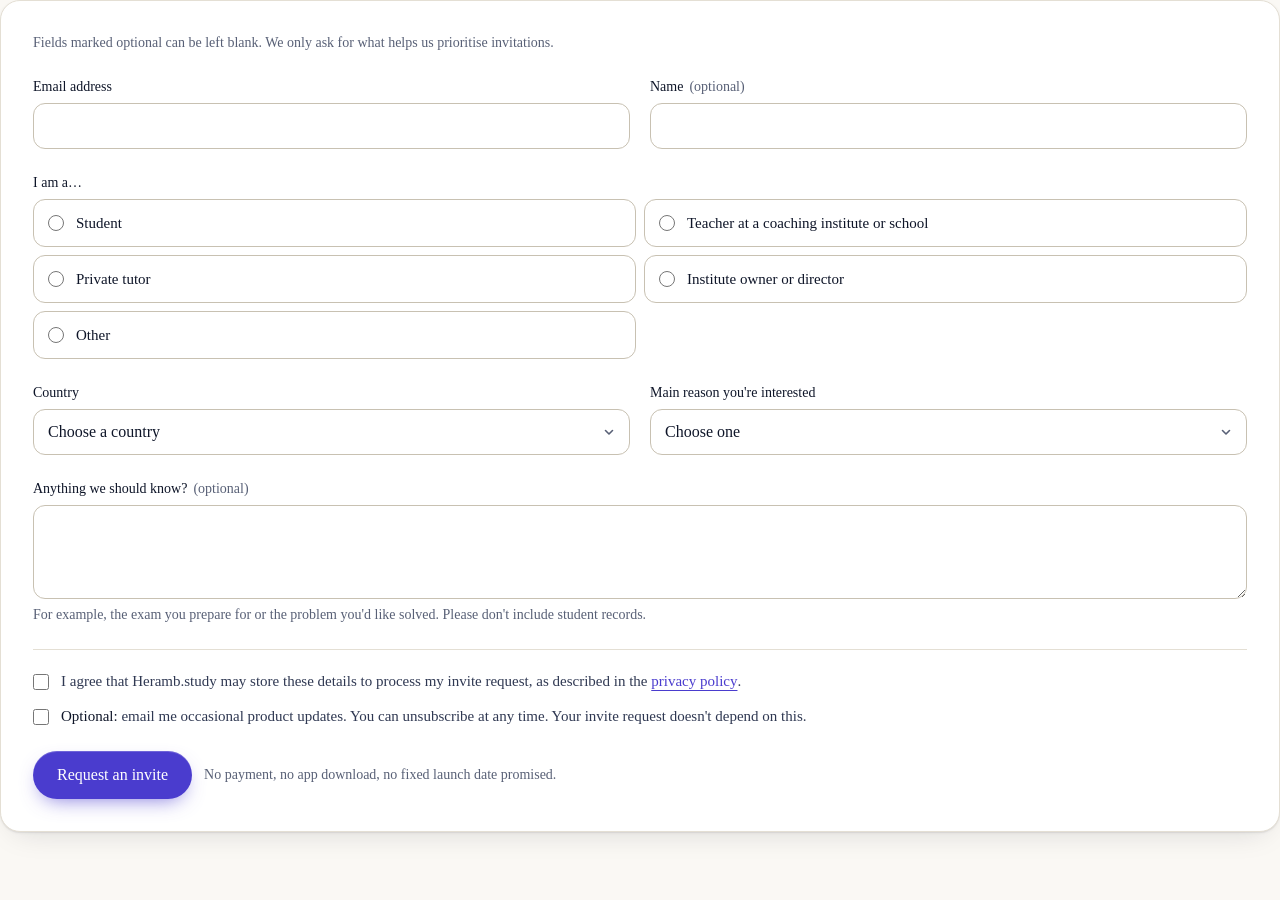
InviteForm › shows success only after the server confirms storage
The image size is (1280, 900).
In the field labelled "Email address": (332, 126) x1=33 y1=103 x2=630 y2=149, type "teacher@example.com"
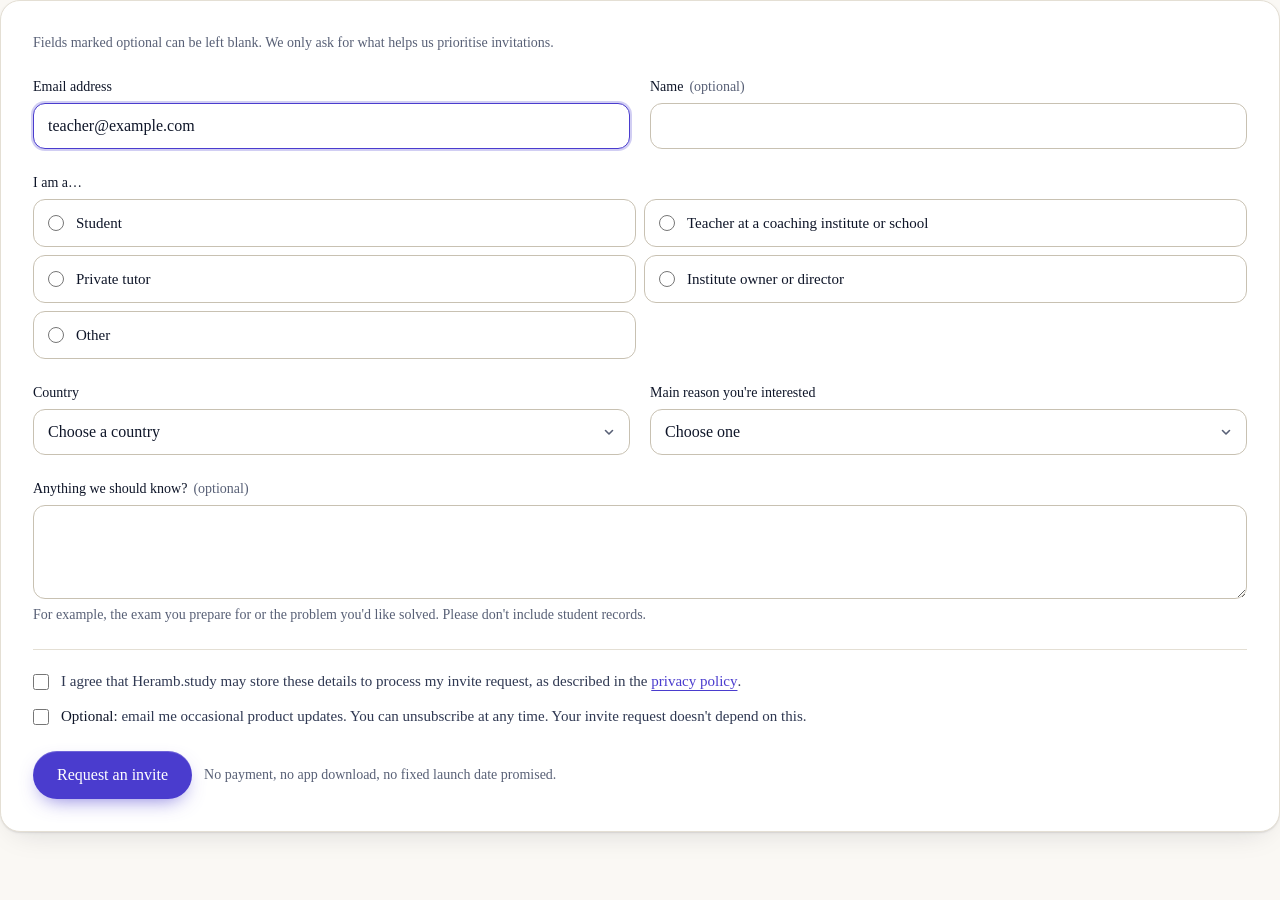
Click the radio button labelled "Private tutor": (56, 279) x1=48 y1=271 x2=64 y2=287
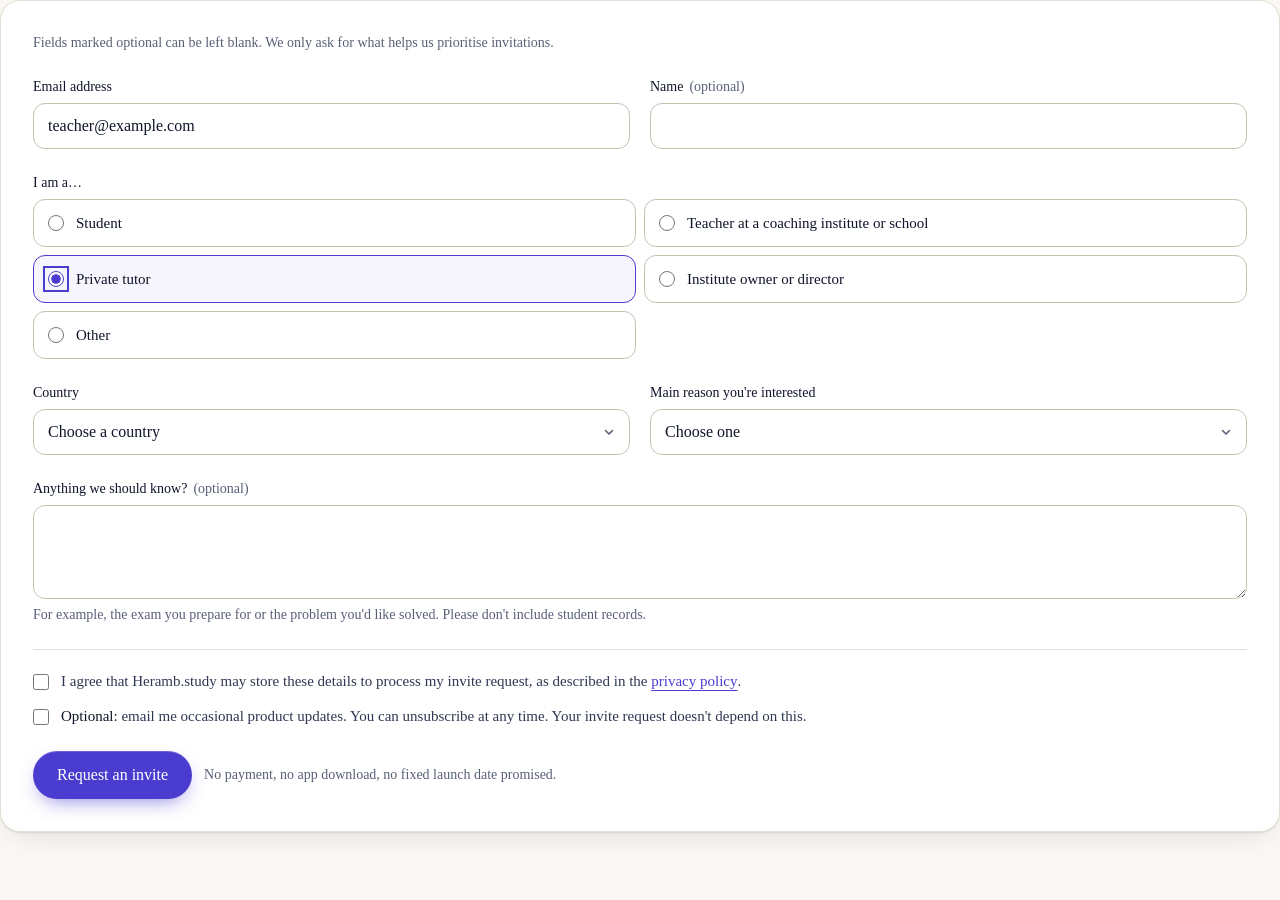
Select "India" in the dropdown labelled "Country": (332, 432) x1=33 y1=409 x2=630 y2=455
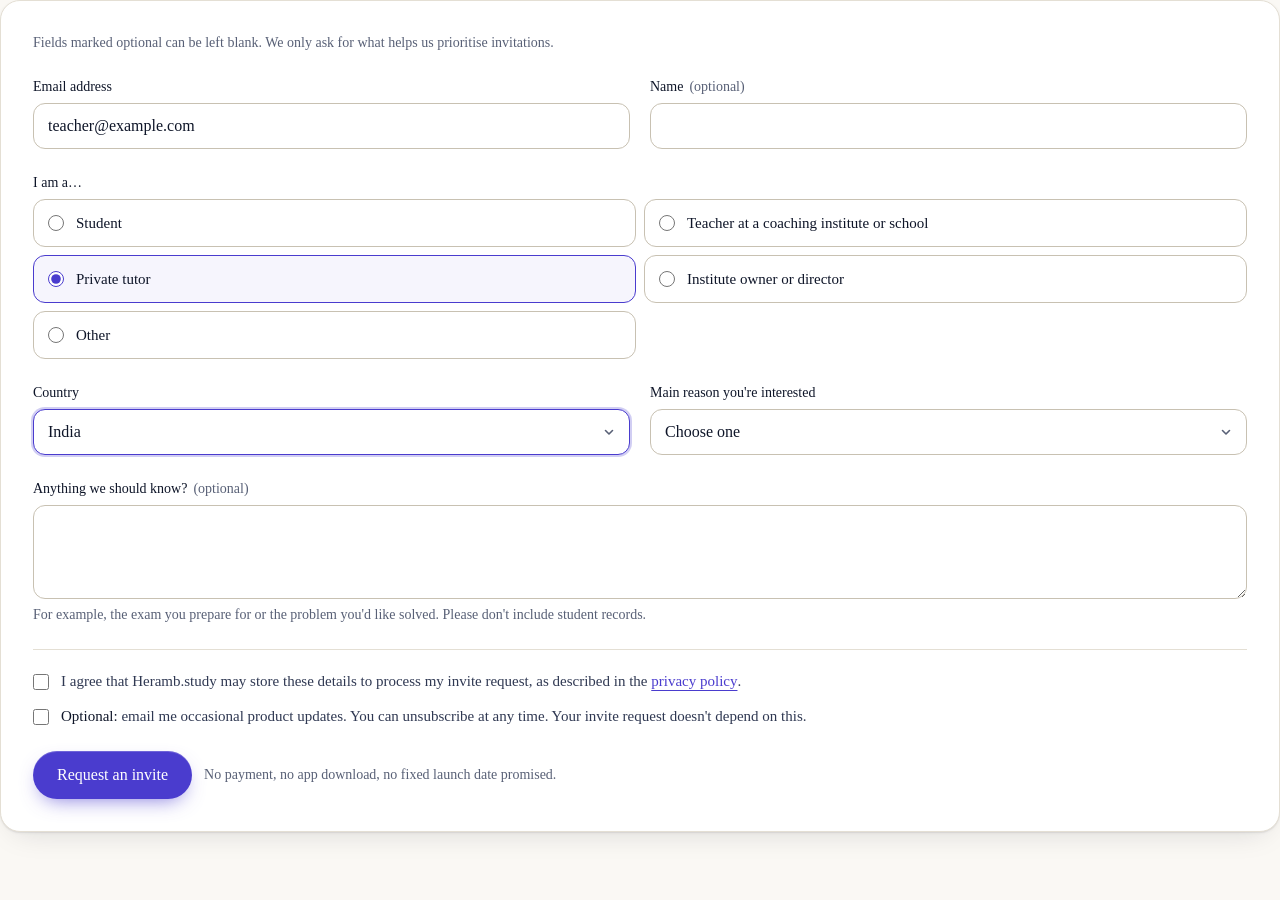
Select "Track student progress between tests" in the dropdown labelled "Main reason you're interested": (948, 432) x1=650 y1=409 x2=1247 y2=455
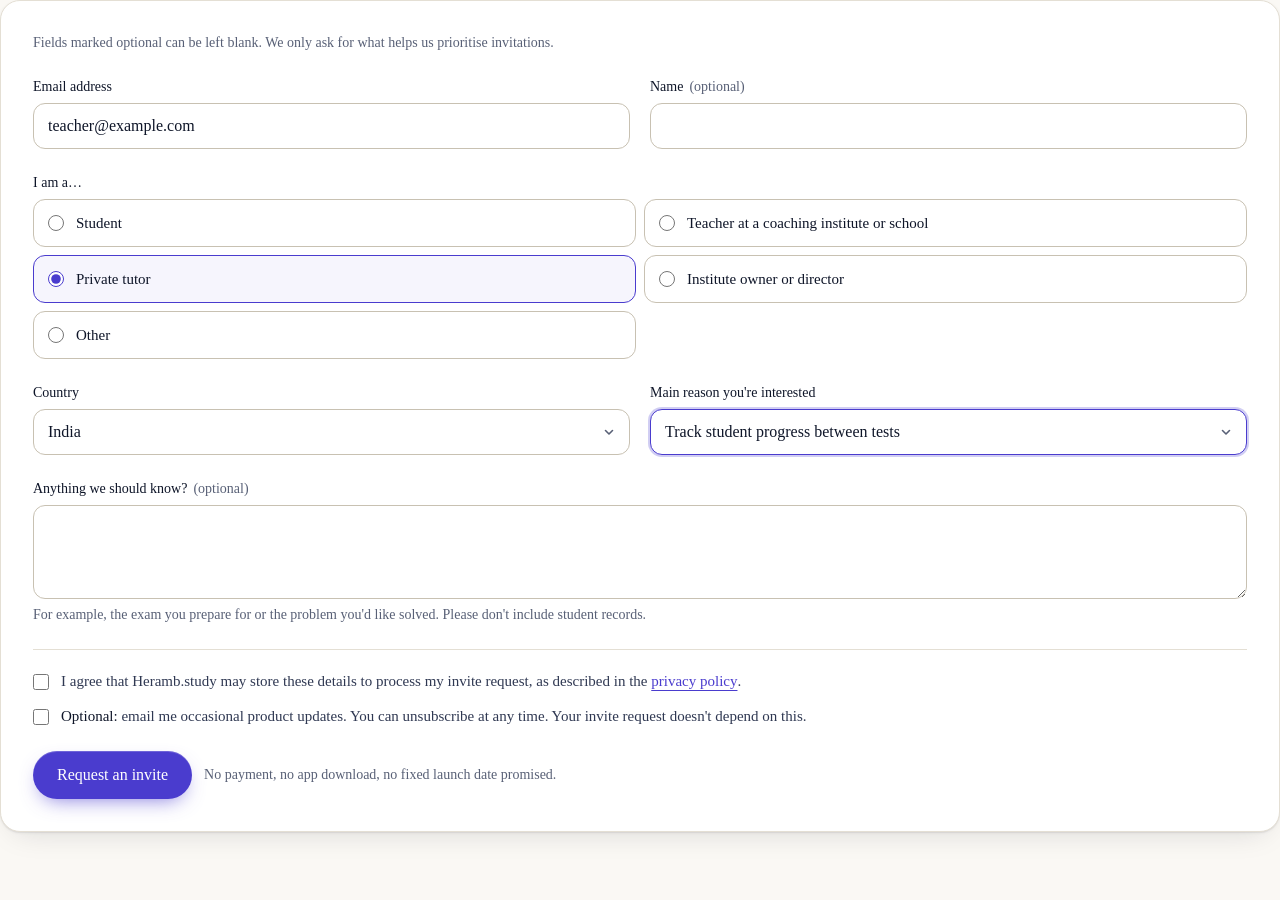
Click the checkbox labelled "I agree that Heramb.study may store": (41, 682) x1=33 y1=674 x2=49 y2=690
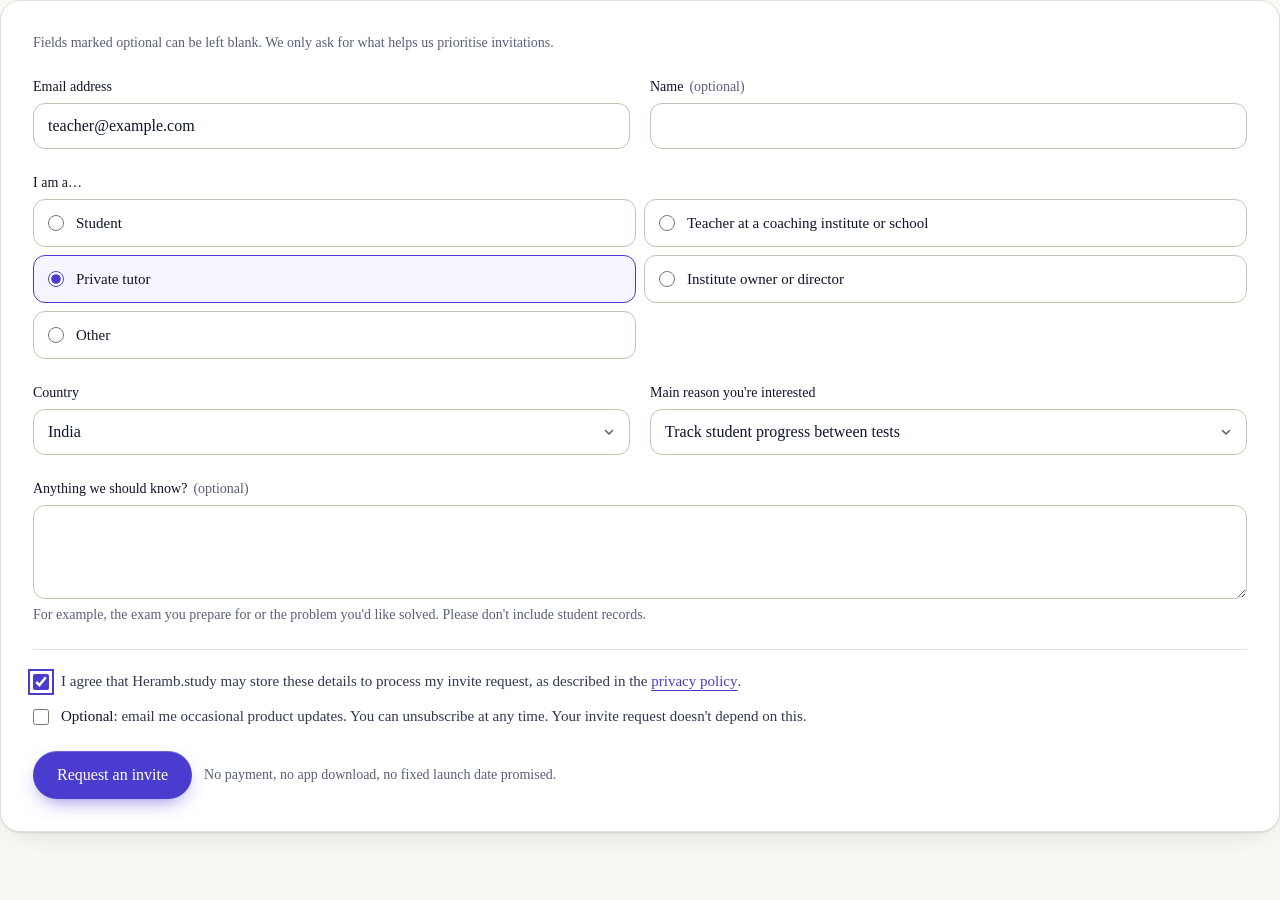
Click the button "Request an invite": (113, 775) x1=33 y1=751 x2=192 y2=799
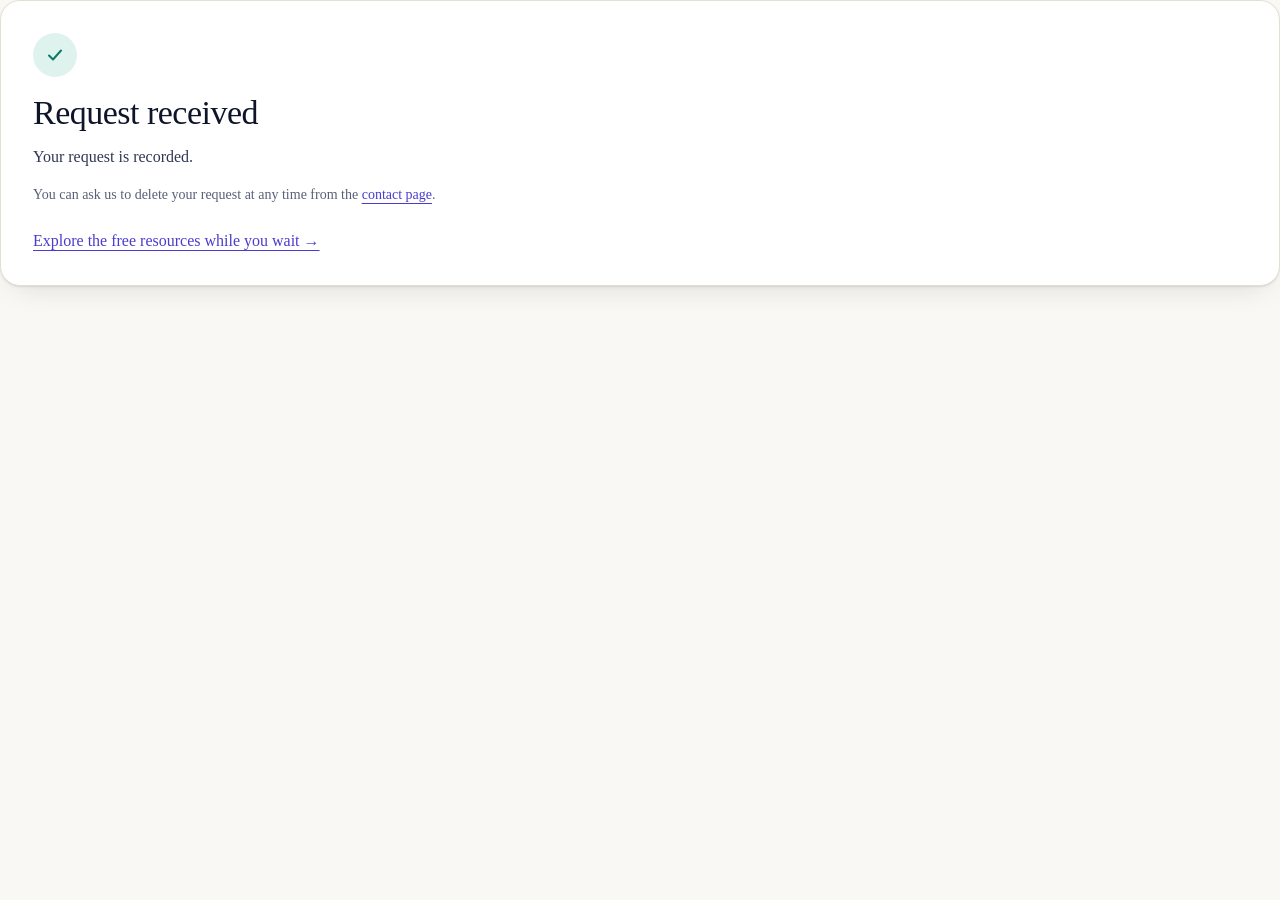
Expected: the message with test id "invite-success" shows "Your request is recorded.", x1=33 y1=148 x2=193 y2=165
